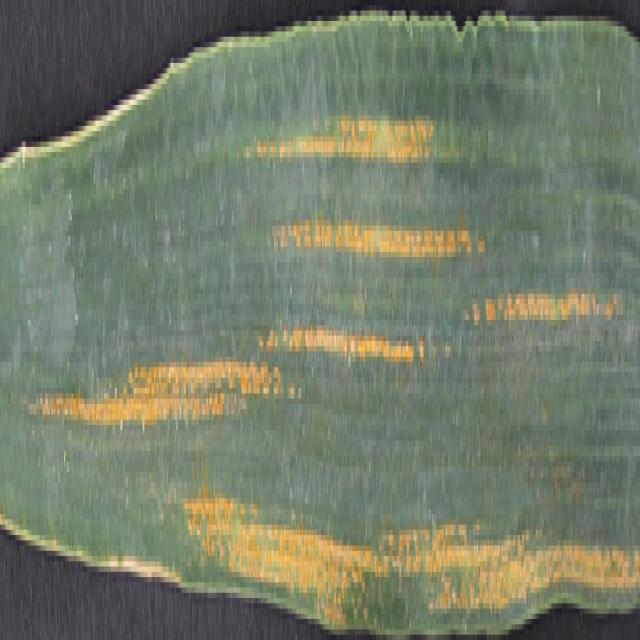leaf rust: (23, 89, 640, 608)
